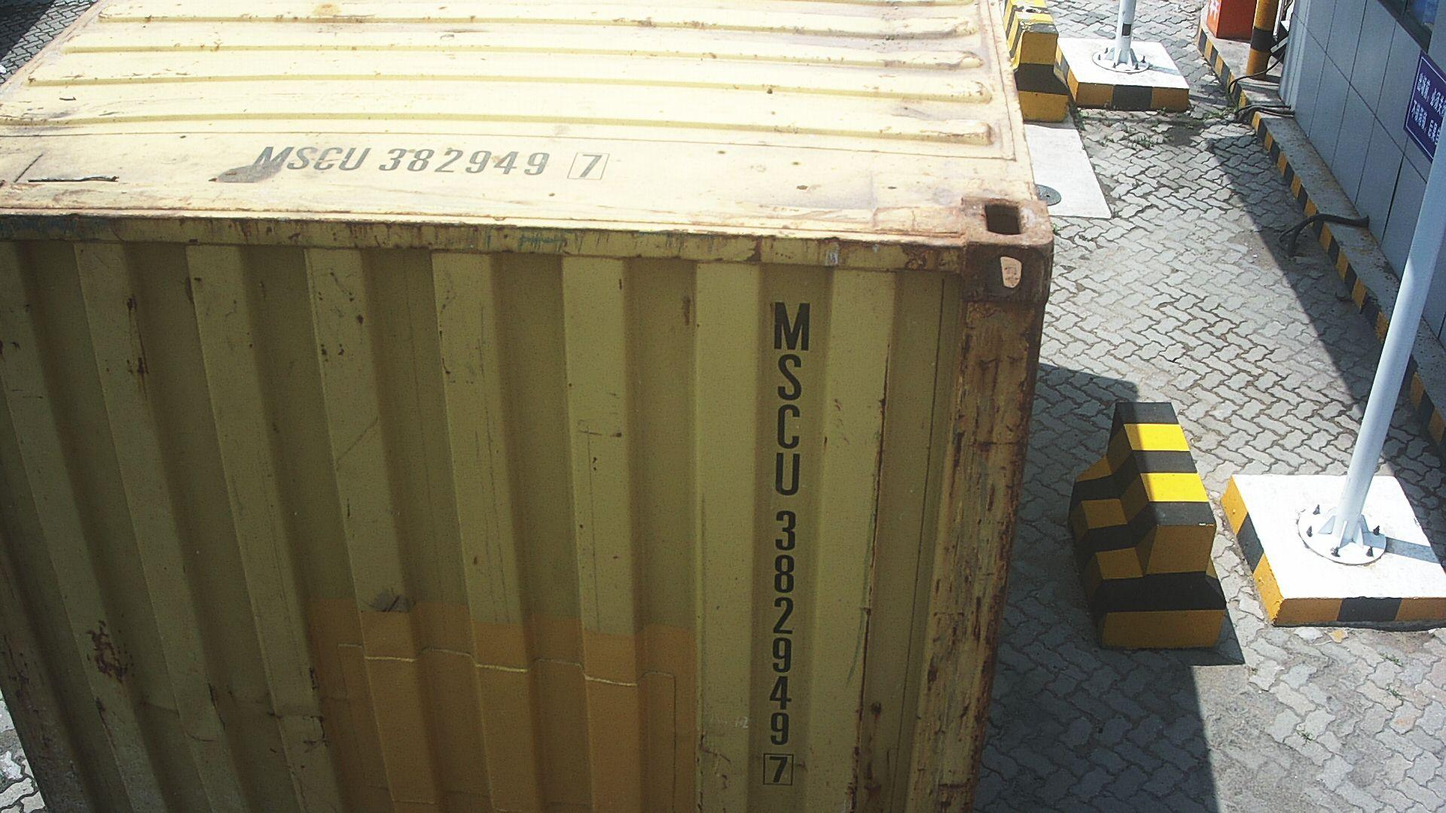container-numbers: (753, 291, 813, 793), (245, 139, 622, 186)
